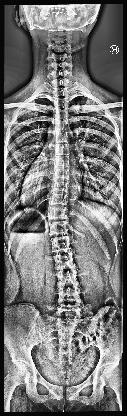Vertebrae: (56, 286, 83, 304), (52, 252, 78, 270), (55, 269, 79, 287), (50, 236, 74, 252), (48, 220, 70, 236), (49, 206, 69, 220), (50, 194, 70, 206), (51, 180, 70, 192), (54, 118, 70, 132), (54, 107, 70, 119), (54, 132, 70, 144), (55, 144, 71, 156), (54, 168, 70, 180), (56, 156, 70, 168), (54, 88, 70, 98), (54, 98, 70, 108)
